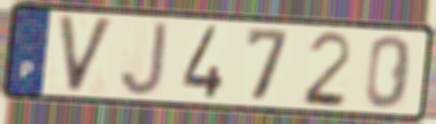0: (362, 33, 414, 112)
2: (301, 29, 354, 109)
4: (181, 24, 226, 100)
7: (242, 25, 295, 104)
J: (118, 19, 170, 98)
V: (54, 13, 117, 96)
